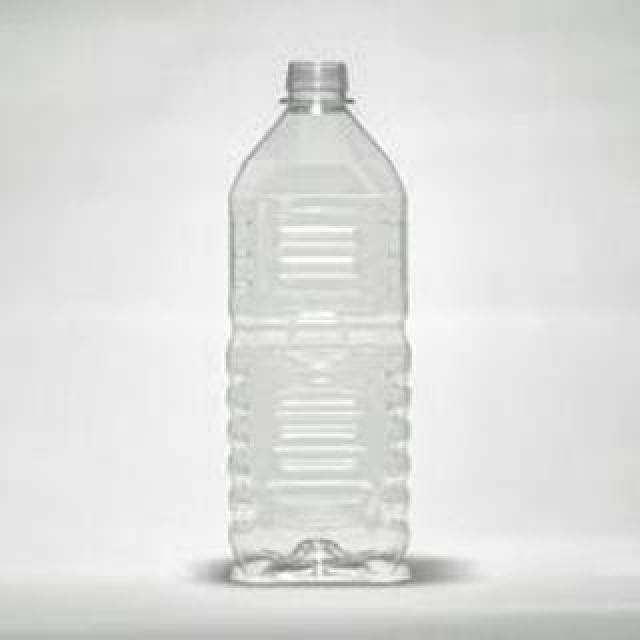Pet_Bottle: (225, 54, 415, 590)
